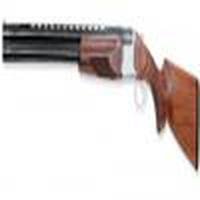gun: (1, 20, 197, 183)
